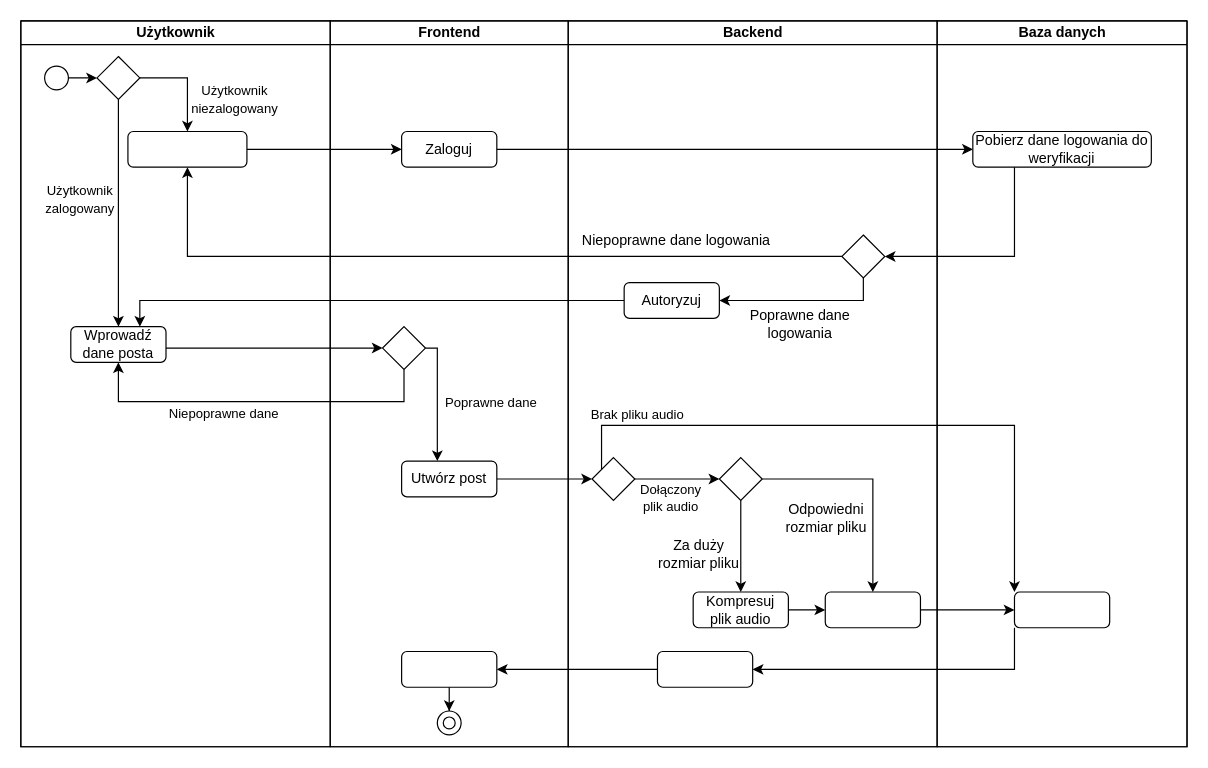
This 1208x768 diagram has some shape labels left out. Here are the shapes that lost their labels. From the top down, the box of each, then its label:
(127, 130, 247, 167): Wprowadź dane logowania
(824, 591, 920, 628): Zapisz plik audio
(1013, 591, 1110, 628): Zapisz post
(400, 650, 497, 687): Wyświetl dodany post
(656, 650, 753, 687): Potwierdź dodanie posta
